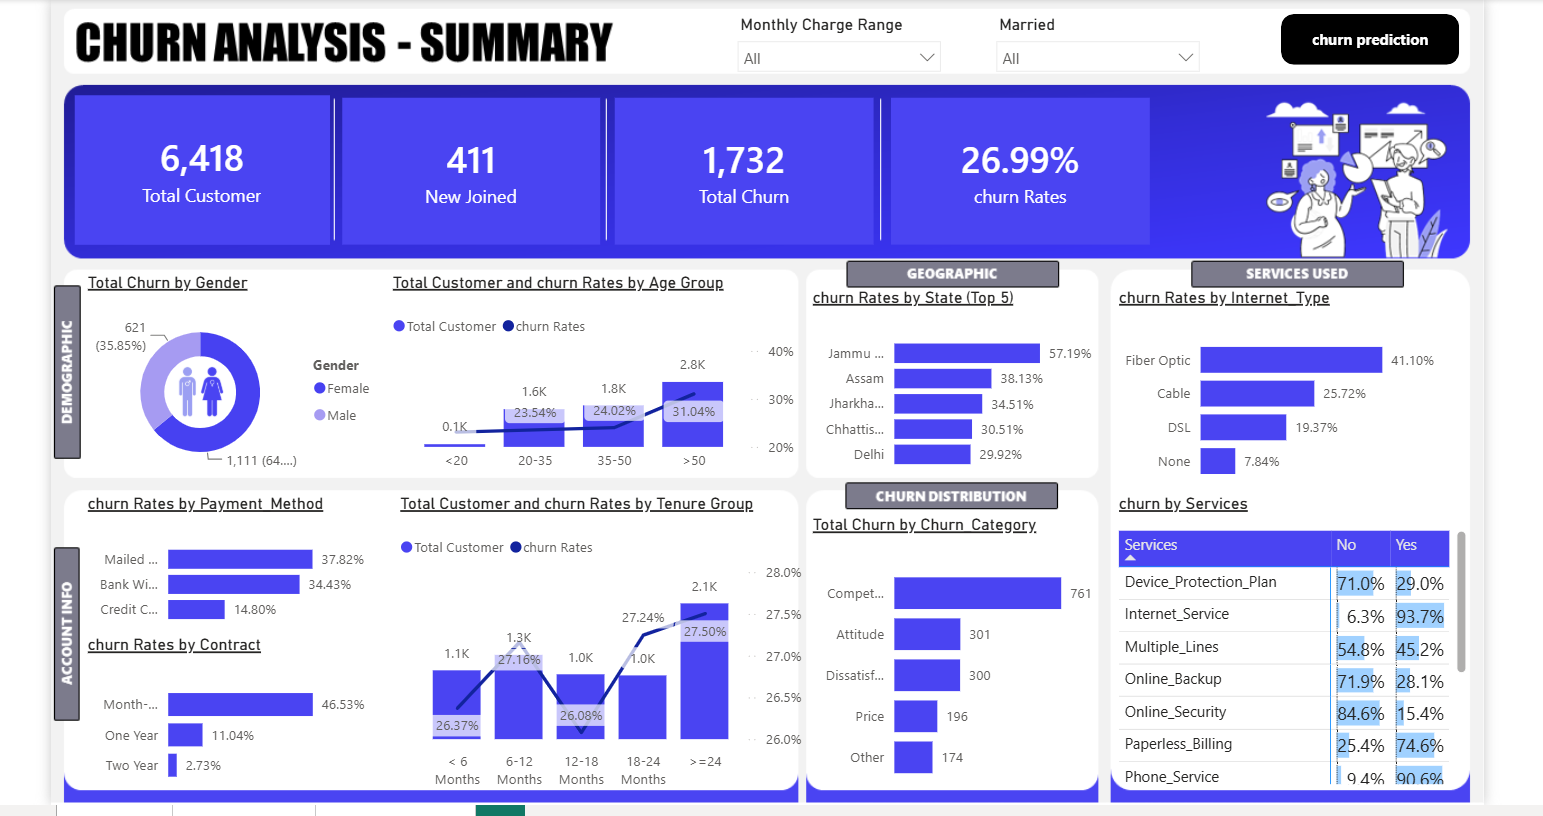

Layout of this report page (visuals, bound fields, positions):
{"tool":"powerbi","page":{"name":"Summary","canvas":[1280,720],"ordinal":0},"visuals":[{"type":"cardVisual","fields":{"Data":["tbl_Measures.Total Customer"]},"box":[20.9,86,227.9,133.7],"z":0},{"type":"cardVisual","fields":{"Data":["tbl_Measures.New Joined"]},"box":[260.5,88.4,230.2,131.4],"z":1000},{"type":"cardVisual","fields":{"Data":["tbl_Measures.Total Churn"]},"box":[503.5,88.4,231.4,131.4],"z":2000},{"type":"cardVisual","fields":{"Data":["tbl_Measures.churn Rates"]},"box":[750,88.4,231.4,131.4],"z":3000},{"type":"donutChart","fields":{"Category":["prod_Churn (2).Gender"],"Y":["tbl_Measures.Total Churn"]},"box":[27.8,244.4,272.2,185.6],"z":4000},{"type":"lineStackedColumnComboChart","fields":{"Category":["mapping_AgeGrp.Age Group"],"Y":["tbl_Measures.Total Customer"],"Y2":["tbl_Measures.churn Rates"]},"box":[300,244.4,368.9,185.6],"z":5000},{"type":"clusteredBarChart","fields":{"Category":["prod_Churn (2).Payment_Method"],"Y":["tbl_Measures.churn Rates"]},"box":[27.8,442.2,257.8,126.7],"z":6000},{"type":"clusteredBarChart","fields":{"Category":["prod_Churn (2).Contract"],"Y":["tbl_Measures.churn Rates"]},"box":[27.8,568.9,257.8,143.3],"z":7000},{"type":"lineStackedColumnComboChart","fields":{"Category":["mapping_TenureGrp.Tenure Group"],"Y":["tbl_Measures.Total Customer"],"Y2":["tbl_Measures.churn Rates"]},"box":[306.7,442.2,368.9,270],"z":8000},{"type":"clusteredBarChart","title":"churn Rates by State (Top 5)","fields":{"Category":["prod_Churn (2).State"],"Y":["tbl_Measures.churn Rates"]},"box":[675.6,257.8,260,172.2],"z":9000},{"type":"clusteredBarChart","fields":{"Category":["prod_Churn (2).Churn_Category"],"Y":["tbl_Measures.Total Churn"]},"box":[675.6,461.1,260,251.1],"z":10000},{"type":"clusteredBarChart","fields":{"Category":["prod_Churn (2).Internet_Type"],"Y":["tbl_Measures.churn Rates"]},"box":[948.9,257.8,320,184.4],"z":11000},{"type":"pivotTable","title":"churn by Services","fields":{"Rows":["Prod_Service.Services"],"Columns":["Prod_Service.Status"],"Values":["Sum(Prod_Service.Churn_Status)"]},"box":[948.9,442.2,320,264.4],"z":12000},{"type":"slicer","fields":{"Values":["Prod_Service.Monthly Charge Status"]},"box":[603.3,8.9,202.2,56.7],"z":13000},{"type":"slicer","fields":{"Values":["Prod_Service.Married"]},"box":[834.4,8.9,202.2,56.7],"z":14000},{"type":"shape","box":[1098.8,14,159.3,45.3],"z":14001},{"type":"image","box":[94.2,322.1,80.2,57],"z":14002}]}

Visuals, with their boxes on the page's 1280x720 design canvas (x1, y1, x2, y2). These are canvas units, not pixel positions in the 1543x816 screenshot, which may show the page scaled, cropped or inside an application window:
cardVisual - tbl_Measures.Total Customer: {"left": 21, "top": 86, "right": 249, "bottom": 220}
cardVisual - tbl_Measures.New Joined: {"left": 260, "top": 88, "right": 491, "bottom": 220}
cardVisual - tbl_Measures.Total Churn: {"left": 504, "top": 88, "right": 735, "bottom": 220}
cardVisual - tbl_Measures.churn Rates: {"left": 750, "top": 88, "right": 981, "bottom": 220}
donutChart - prod_Churn (2).Gender x tbl_Measures.Total Churn: {"left": 28, "top": 244, "right": 300, "bottom": 430}
lineStackedColumnComboChart - mapping_AgeGrp.Age Group x tbl_Measures.Total Customer: {"left": 300, "top": 244, "right": 669, "bottom": 430}
clusteredBarChart - prod_Churn (2).Payment_Method x tbl_Measures.churn Rates: {"left": 28, "top": 442, "right": 286, "bottom": 569}
clusteredBarChart - prod_Churn (2).Contract x tbl_Measures.churn Rates: {"left": 28, "top": 569, "right": 286, "bottom": 712}
lineStackedColumnComboChart - mapping_TenureGrp.Tenure Group x tbl_Measures.Total Customer: {"left": 307, "top": 442, "right": 676, "bottom": 712}
"churn Rates by State (Top 5)" clusteredBarChart: {"left": 676, "top": 258, "right": 936, "bottom": 430}
clusteredBarChart - prod_Churn (2).Churn_Category x tbl_Measures.Total Churn: {"left": 676, "top": 461, "right": 936, "bottom": 712}
clusteredBarChart - prod_Churn (2).Internet_Type x tbl_Measures.churn Rates: {"left": 949, "top": 258, "right": 1269, "bottom": 442}
"churn by Services" pivotTable: {"left": 949, "top": 442, "right": 1269, "bottom": 707}
slicer - Prod_Service.Monthly Charge Status: {"left": 603, "top": 9, "right": 806, "bottom": 66}
slicer - Prod_Service.Married: {"left": 834, "top": 9, "right": 1037, "bottom": 66}
shape: {"left": 1099, "top": 14, "right": 1258, "bottom": 59}
image: {"left": 94, "top": 322, "right": 174, "bottom": 379}
